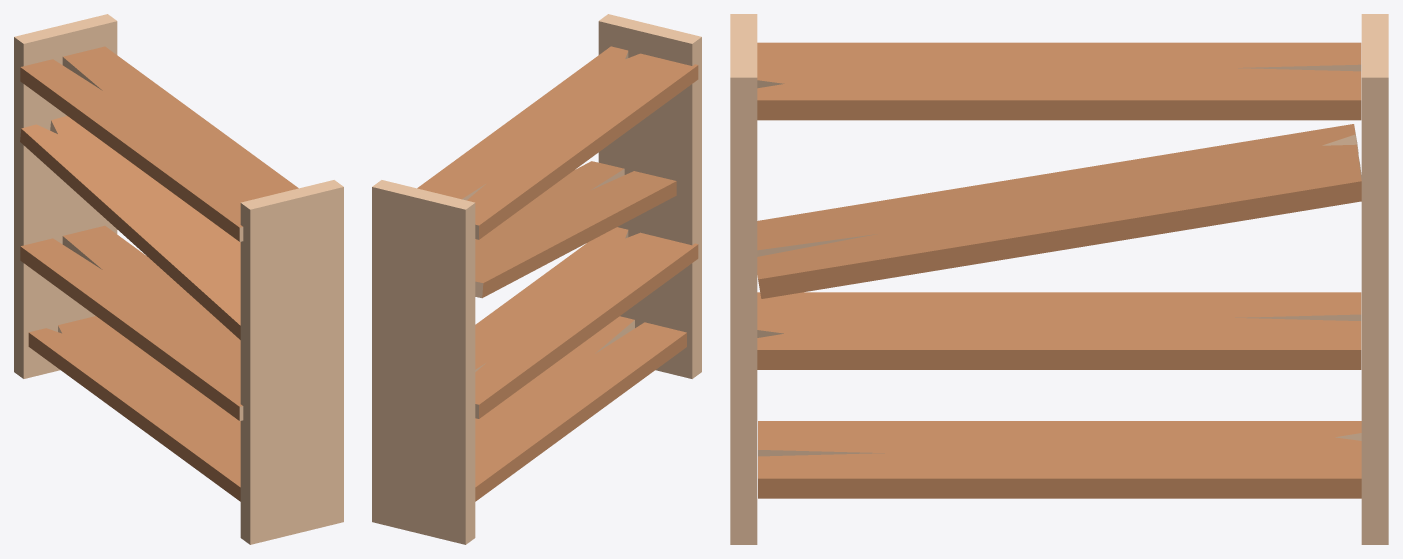
Rendered from regal1.fbx.
The picture shows the model from 3 angles, left to right: view 1: azimuth 30°, elevation 25°; view 2: azimuth 150°, elevation 25°; view 3: azimuth 270°, elevation 25°; orthographic projection. The views are drawn at different scales.
Visible parts, largest first — view 1: Regal; view 2: Regal; view 3: Regal.
Part boxes in pixels (x1,y1,x2,y2): Regal: (14, 14, 343, 544); Regal: (372, 14, 701, 544); Regal: (730, 14, 1388, 544).
Bounding box in the file's own units: 61.72 × 187 × 239.
